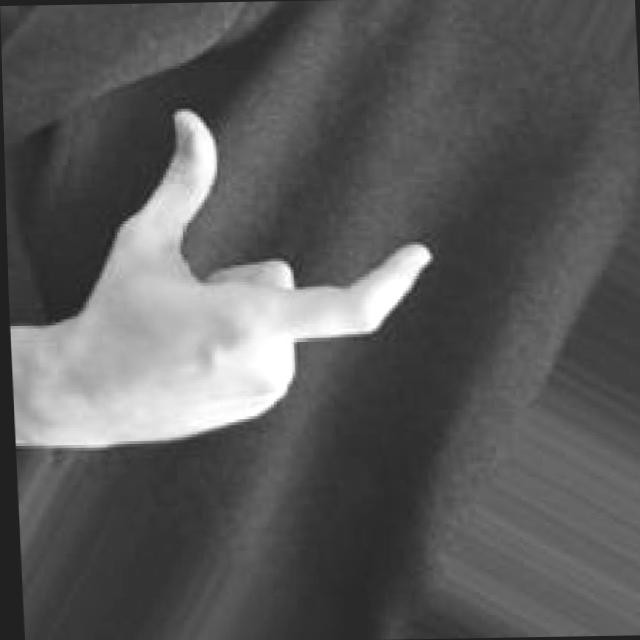U: (3, 102, 443, 455)
